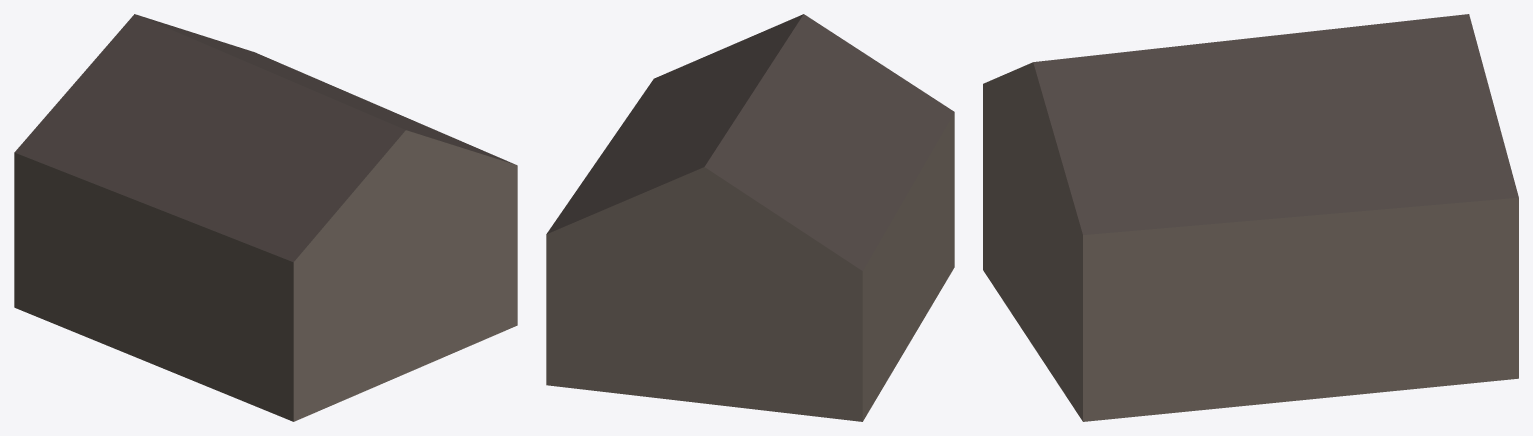
3 views of the same model, side by side, from view 1: azimuth 30°, elevation 25°; view 2: azimuth 150°, elevation 25°; view 3: azimuth 270°, elevation 25° (orthographic). The views are drawn at different scales.
Parts seen in each view (by area): view 1: HP-w1197008307; view 2: HP-w1197008307; view 3: HP-w1197008307.
Part boxes in pixels (bbox=[...]): HP-w1197008307: bbox=[14, 14, 517, 421]; HP-w1197008307: bbox=[546, 14, 954, 421]; HP-w1197008307: bbox=[983, 14, 1518, 421].
Size of the model in its own units: 14.53 by 9.42 by 16.1.
